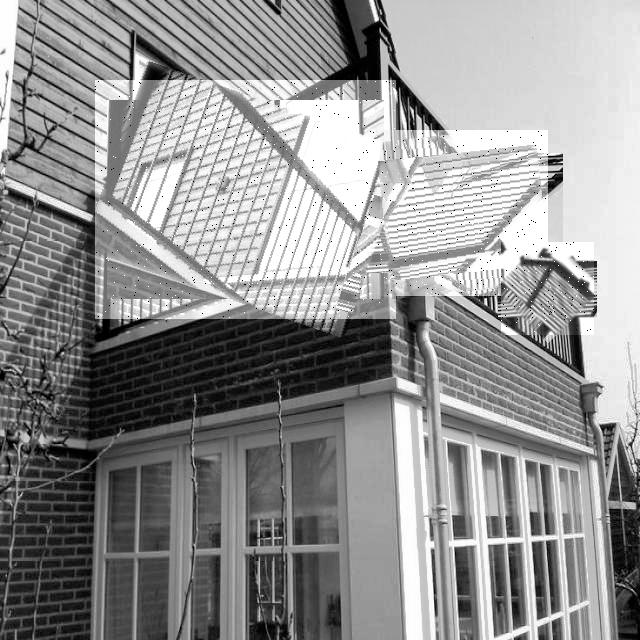fences: (95, 80, 396, 319), (380, 130, 548, 296), (501, 242, 594, 335)
